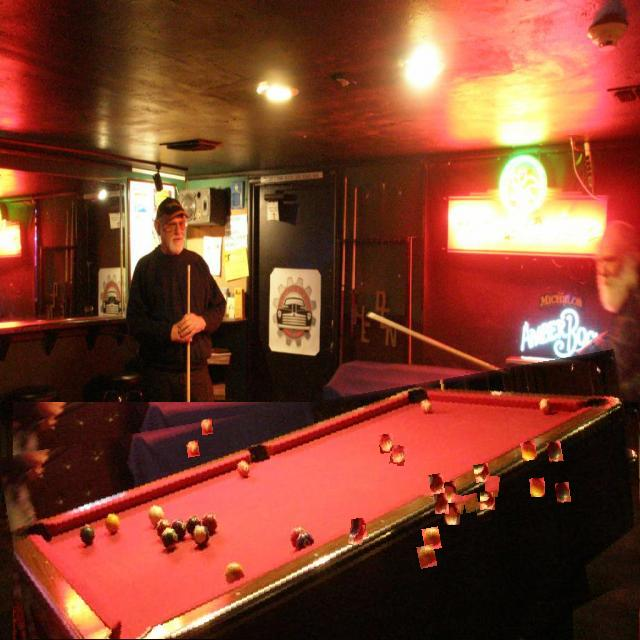Ball: (417, 545, 436, 569), (444, 504, 461, 525), (390, 446, 407, 466), (475, 502, 492, 522), (349, 524, 365, 544), (450, 494, 466, 514), (485, 476, 500, 497), (341, 528, 358, 546), (464, 494, 480, 513), (556, 483, 571, 503), (530, 478, 545, 497), (434, 494, 448, 514), (480, 492, 495, 510), (82, 438, 96, 456), (201, 419, 214, 435)
Billiard table: (5, 375, 640, 640)
